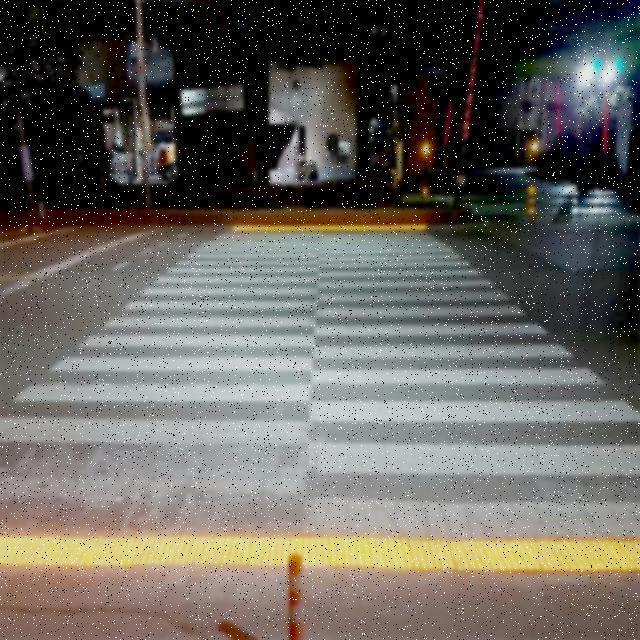Pedestrian crosswalk: (0, 217, 637, 554)
